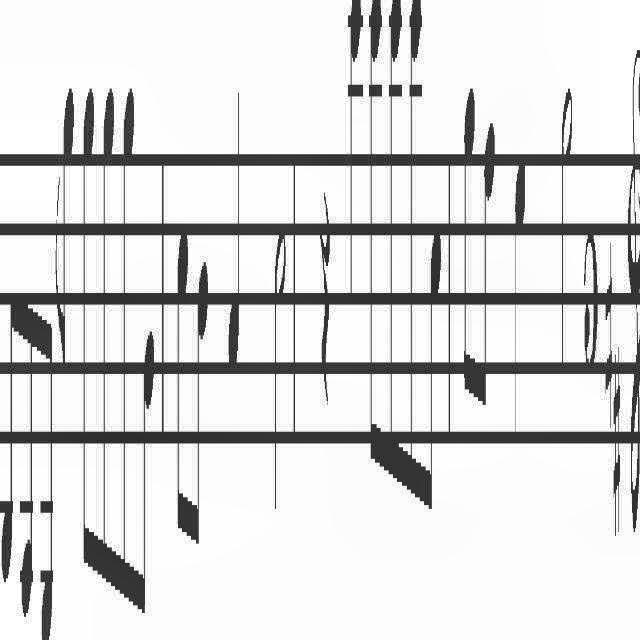Bass-clef: (628, 31, 640, 548)
Diez: (603, 241, 613, 457), (612, 338, 622, 534)
Eighth-note: (122, 50, 138, 640), (100, 46, 116, 634), (82, 53, 98, 612), (365, 0, 383, 482), (387, 0, 404, 500), (408, 0, 423, 520), (174, 199, 194, 569), (53, 53, 73, 399), (195, 225, 212, 579), (426, 199, 442, 549), (38, 296, 54, 640), (0, 258, 16, 602), (141, 308, 157, 640), (19, 276, 33, 628), (483, 66, 495, 452), (462, 76, 474, 417)
Half-note: (270, 175, 290, 525), (558, 71, 578, 373)
Quarter-note: (342, 0, 364, 324), (228, 46, 245, 394), (512, 140, 526, 430)
Quarter-rest: (318, 142, 334, 414)
